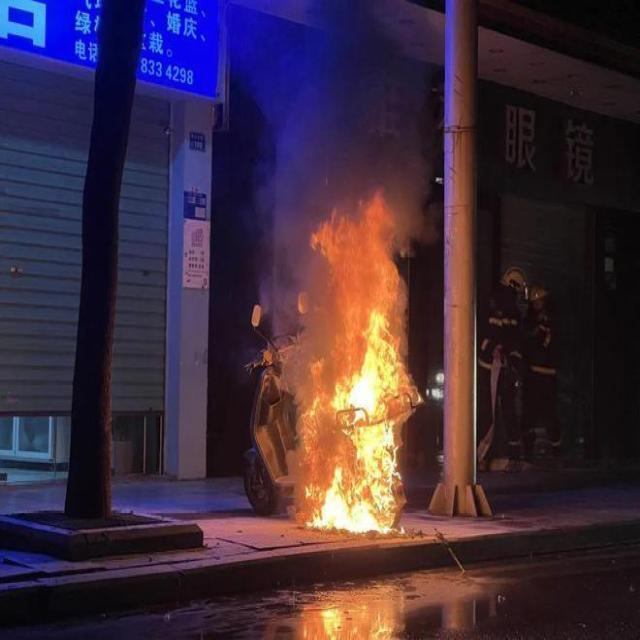Fire: (312, 426, 400, 534), (336, 316, 398, 422)
Smoke: (262, 0, 429, 316)
